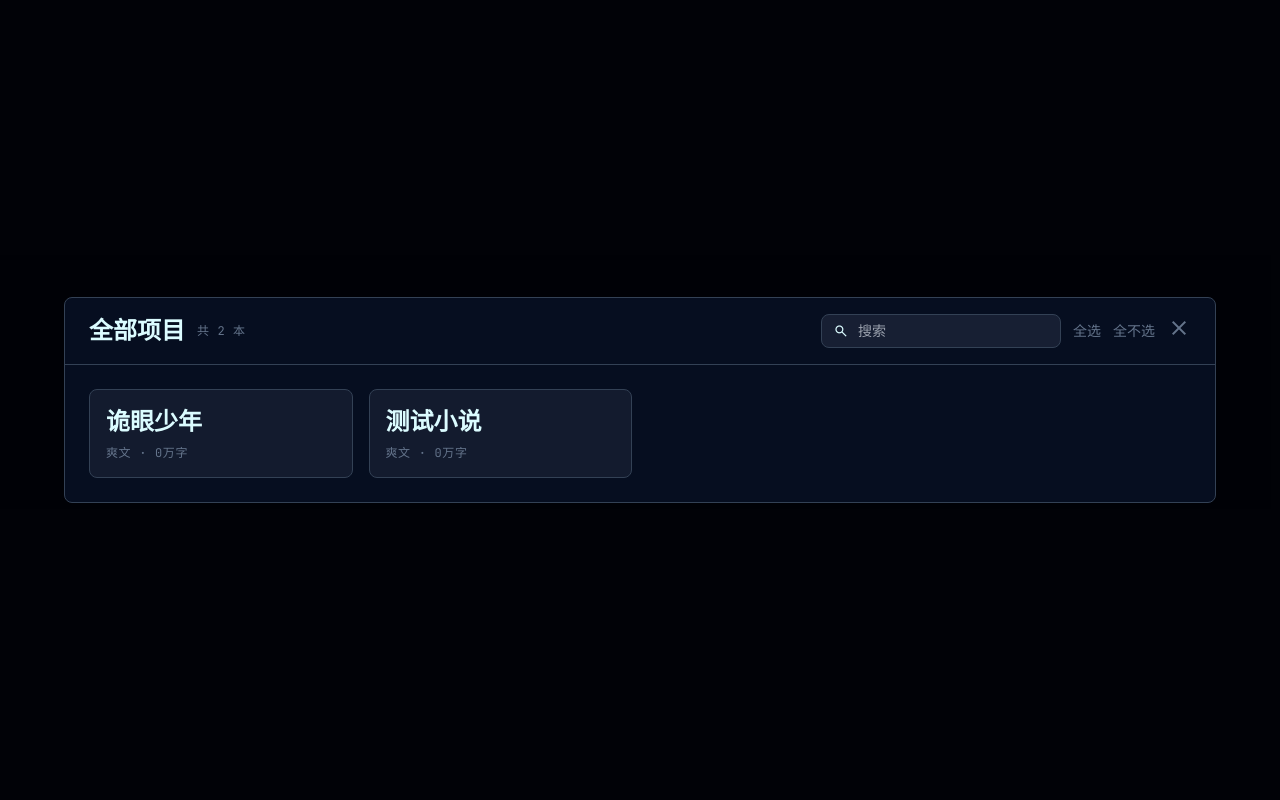
Scenario: BookShelfModal default-select mode › clicking 全选 selects every currently visible (filtered) project
What coordinates should you click on to do the following:
click the button "全选"
I would click on:
 (1087, 331)
Its box is [1073,321,1101,341].
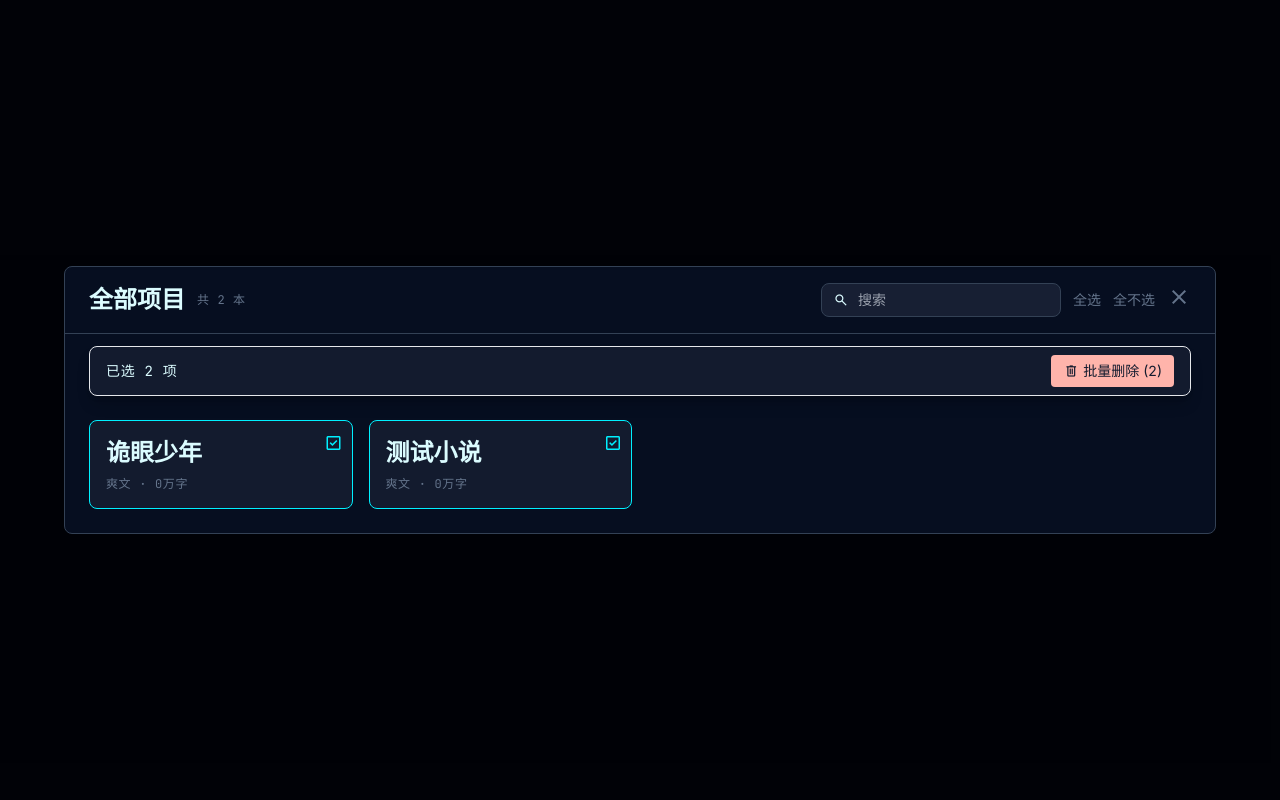
Result: the text "已选 2 项" is shown at [106,361,177,381]
Result: the element with test id "bulk-action-bar" is shown at [89,346,1191,396]
